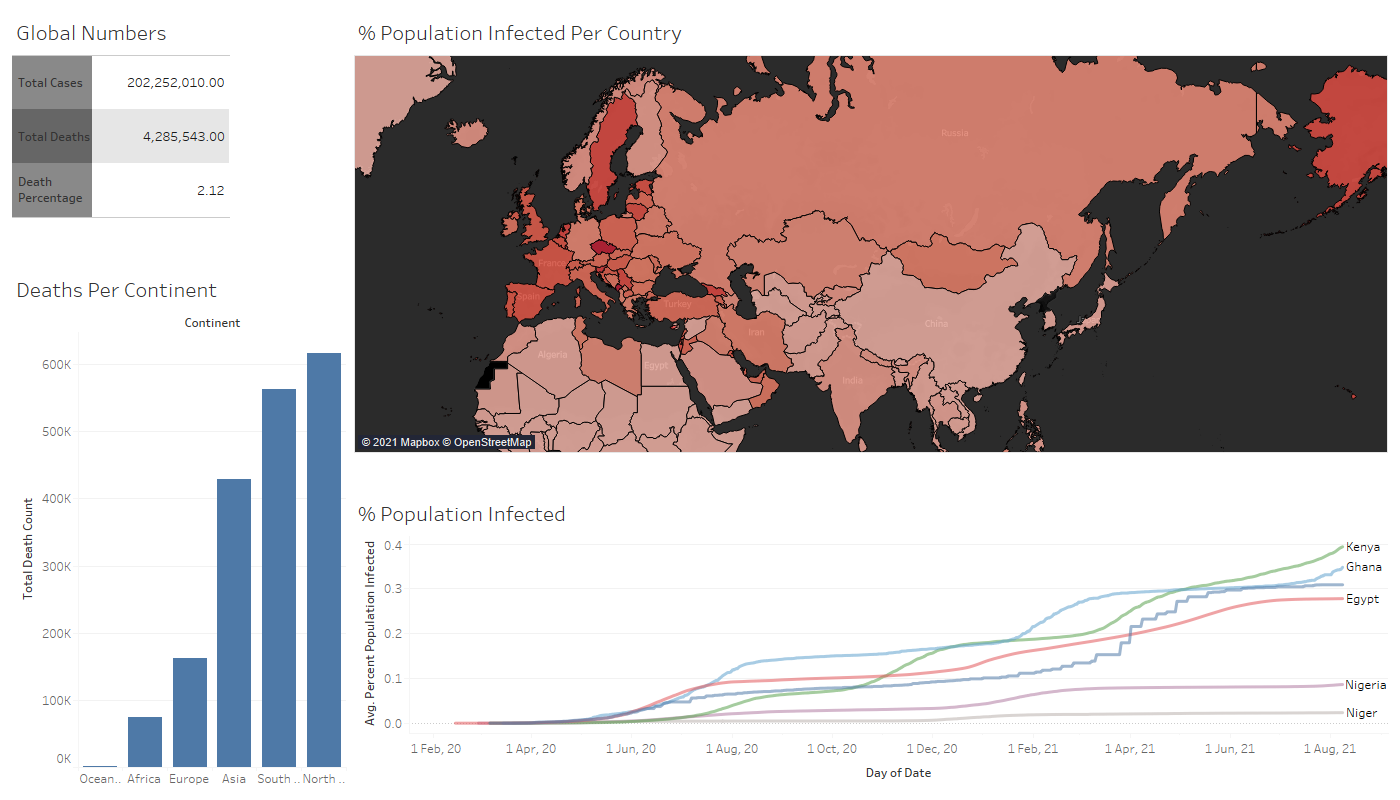

Layout of this report page (visuals, bound fields, positions):
{"tool":"tableau","page":{"name":"Dashboard 1","canvas":[1400,800],"ordinal":0},"visuals":[{"type":"worksheet","title":"Sheet 1","mark":"Automatic","box":[8,8,342,257]},{"type":"worksheet","title":"Sheet 3","mark":"Automatic","box":[350,8,1042,449]},{"type":"worksheet","title":"Sheet 2","mark":"Automatic","rows":["TotalDeathCount"],"cols":["continent"],"box":[8,265,342,527]},{"type":"worksheet","title":"Sheet 4","mark":"Automatic","rows":["PercentPopulationInfected"],"cols":["date"],"box":[350,489,1042,303]}]}

Visuals, with their boxes in screenshot pixels (x1, y1, x2, y2), scaled from the page's 1400x800 canvas onto the 1400x800 screenshot:
"Sheet 1" worksheet: rect(8, 8, 350, 265)
"Sheet 3" worksheet: rect(350, 8, 1392, 457)
"Sheet 2" worksheet: rect(8, 265, 350, 792)
"Sheet 4" worksheet: rect(350, 489, 1392, 792)
